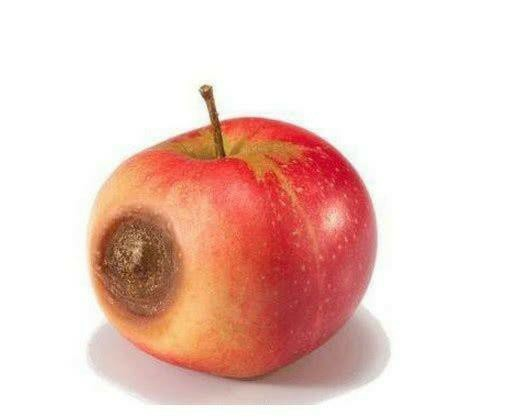rotten_apple: (85, 115, 379, 375)
